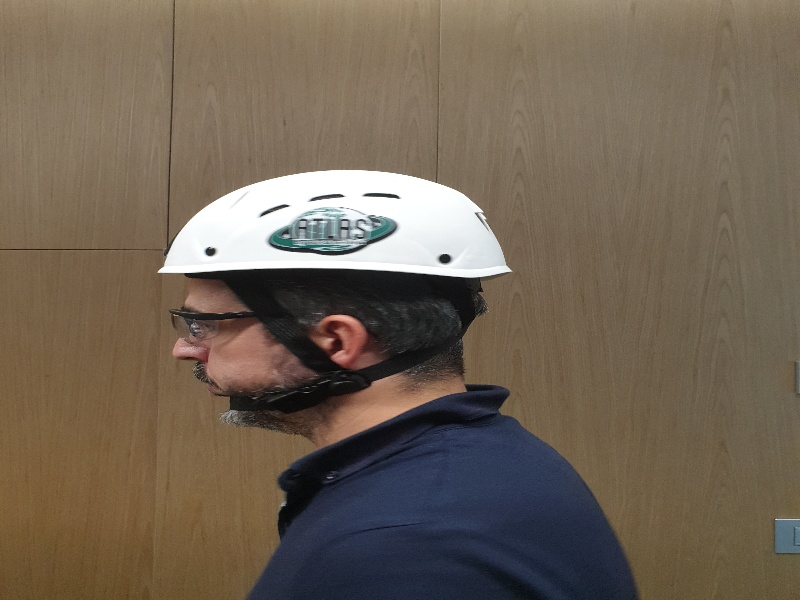Baret: (154, 168, 514, 288)
